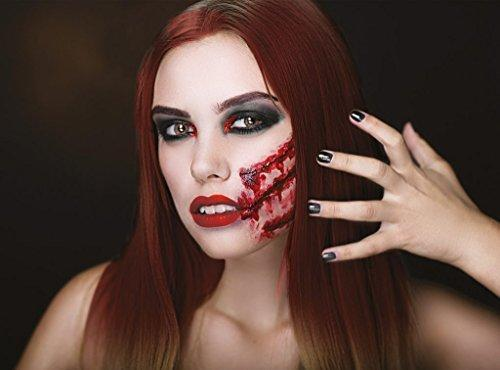Fire: (237, 138, 296, 242)
